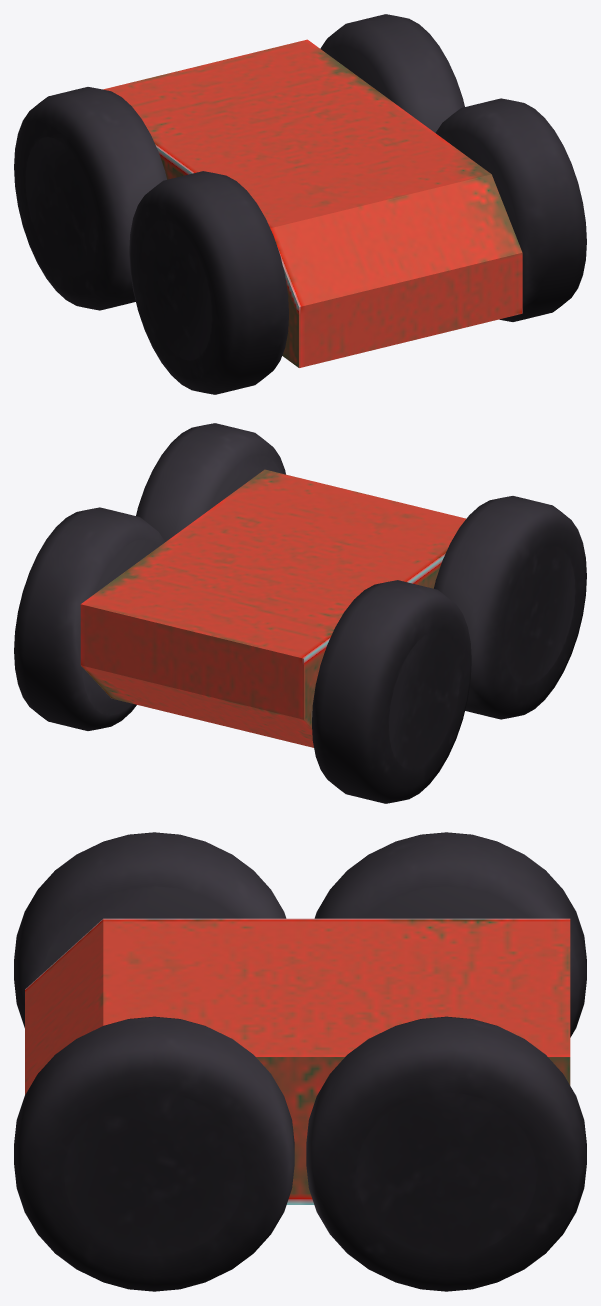
Rendered from robo.glb.
3 renders of one model, top to bottom at view 1: azimuth 30°, elevation 25°; view 2: azimuth 150°, elevation 25°; view 3: azimuth 270°, elevation 25°, orthographic. The views are drawn at different scales.
Parts seen in each view (by area): view 1: Cube; view 2: Cube; view 3: Cube.
Part boxes in pixels (box(x1,y1,x2,y2)): Cube: box(14, 14, 586, 394); Cube: box(14, 423, 586, 803); Cube: box(14, 832, 586, 1291).
Size of the model in its own units: 0.4879 by 0.2575 by 0.5255.
1 material, 1 textured.
